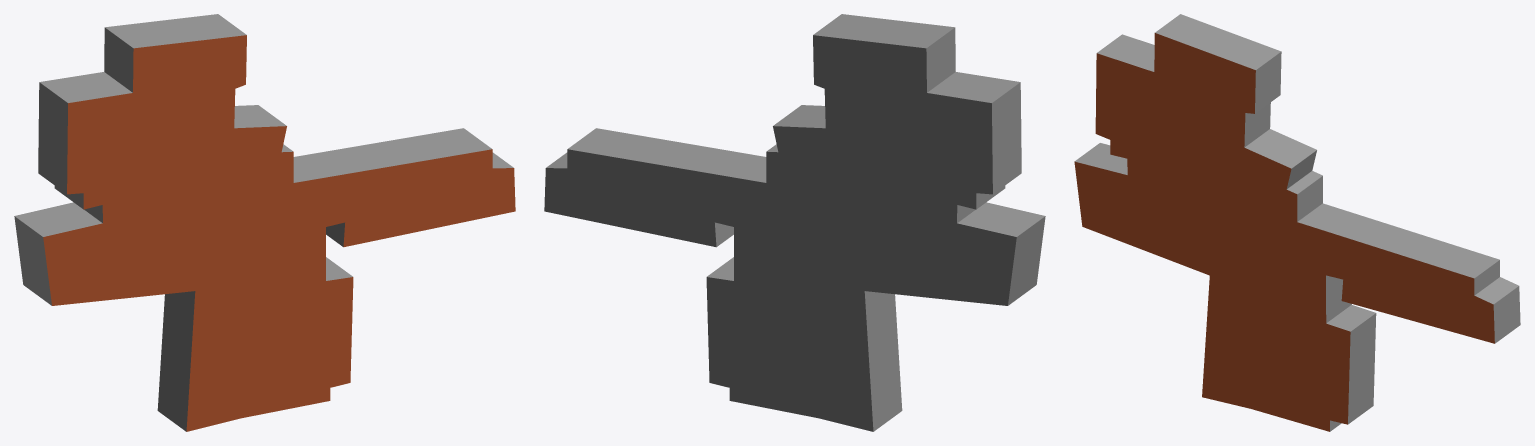
The model's file is construction_3032_assumed_A_Casa_h6m.obj.
The picture shows the model from 3 angles, left to right: view 1: azimuth 30°, elevation 25°; view 2: azimuth 150°, elevation 25°; view 3: azimuth 330°, elevation 25°; orthographic projection. The views are drawn at different scales.
Visible parts, largest first — view 1: construction_3032_assumed_A_Casa; view 2: construction_3032_assumed_A_Casa; view 3: construction_3032_assumed_A_Casa.
Boxes of the visible parts, bbox=[...] form: construction_3032_assumed_A_Casa: bbox=[14, 14, 515, 431]; construction_3032_assumed_A_Casa: bbox=[544, 14, 1045, 431]; construction_3032_assumed_A_Casa: bbox=[1074, 14, 1520, 431].
Bounding box in the file's own units: 56.75 × 45.97 × 6.
